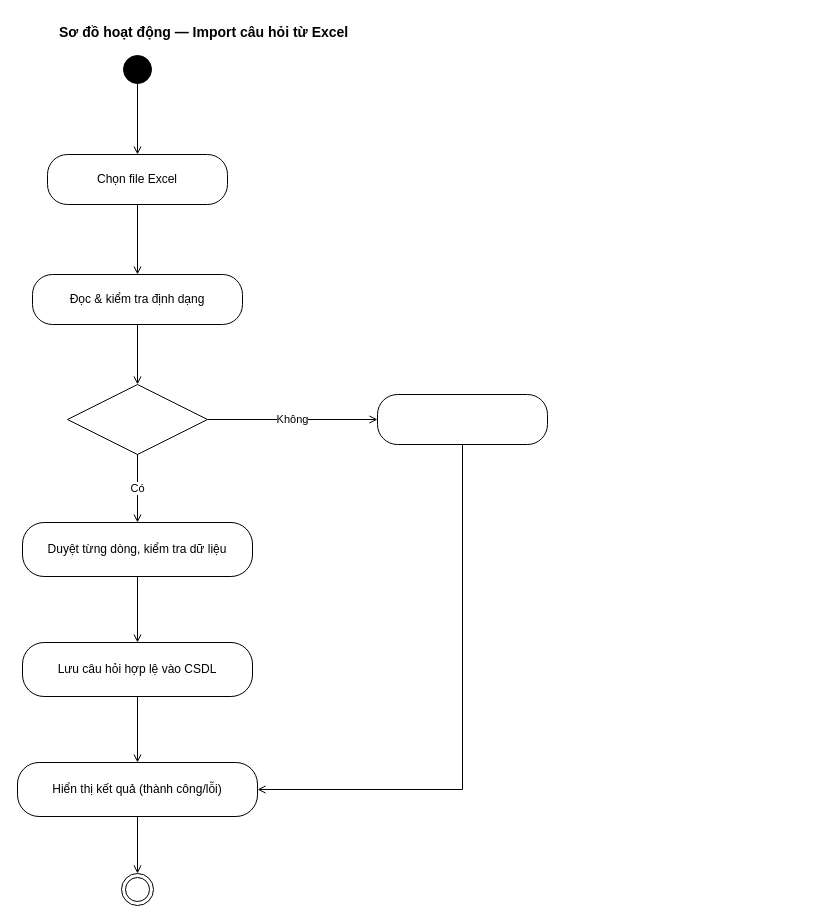
Image size: 835x923. Some labels were removed from this diagram. Each missing label, with the box of its shape:
Báo lỗi định dạng: (376, 394, 548, 444)
File hợp lệ?: (66, 384, 208, 454)
